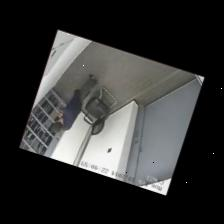person: (50, 74, 96, 132)
